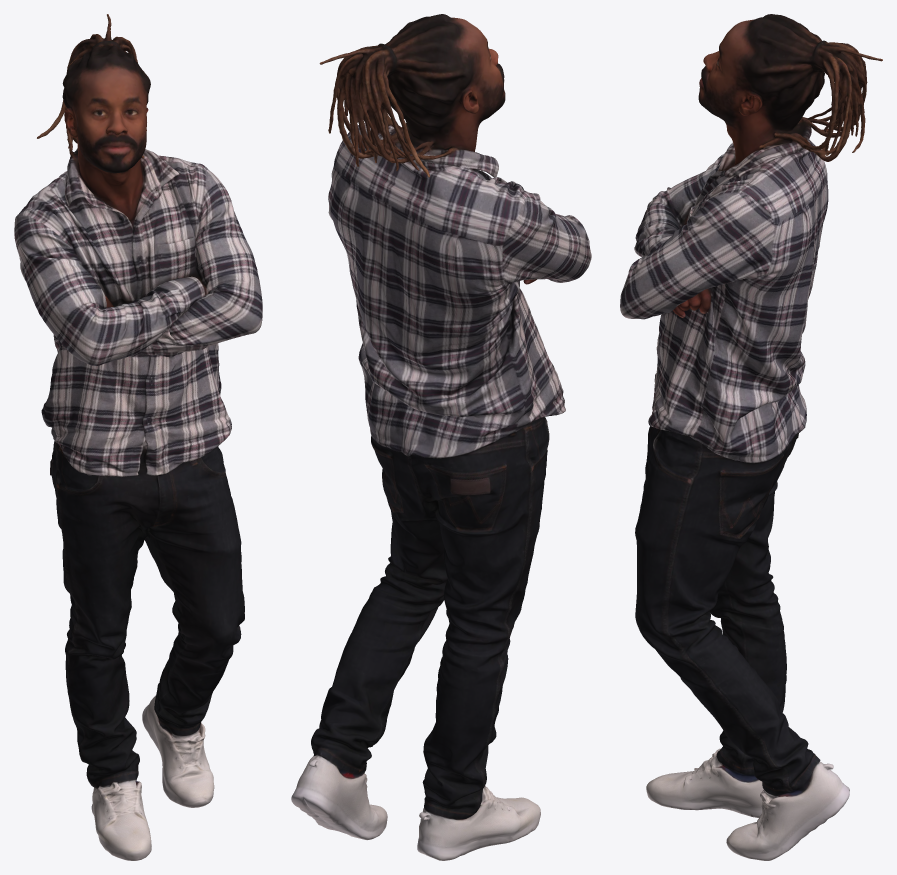
File: man_4_o.glb
3 renders of one model, left to right at view 1: azimuth 30°, elevation 25°; view 2: azimuth 150°, elevation 25°; view 3: azimuth 270°, elevation 25°, orthographic. The views are drawn at different scales.
Parts seen in each view (by area): view 1: rp_posedplus_00068_18_100k; view 2: rp_posedplus_00068_18_100k; view 3: rp_posedplus_00068_18_100k.
Boxes of the visible parts, left/top/right/bottom form: rp_posedplus_00068_18_100k: left=14, top=14, right=262, bottom=860; rp_posedplus_00068_18_100k: left=291, top=14, right=591, bottom=860; rp_posedplus_00068_18_100k: left=620, top=14, right=882, bottom=860.
Size of the model in its own units: 46.64 by 169 by 50.81.
1 material, 1 textured.
